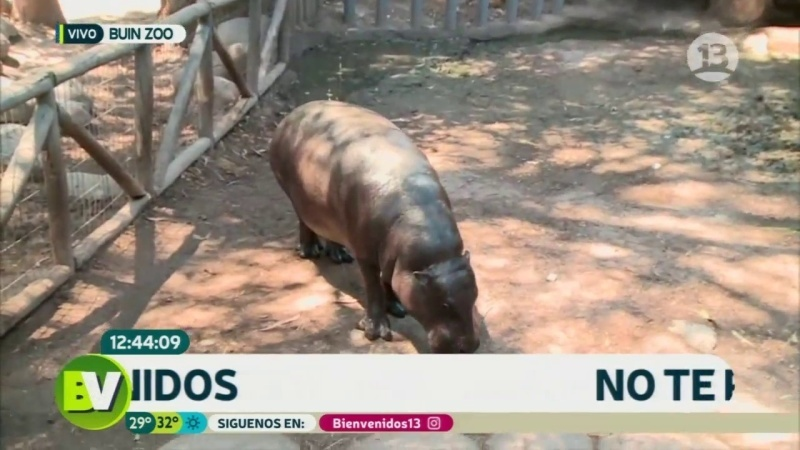hipopotamo: (253, 91, 489, 353)
